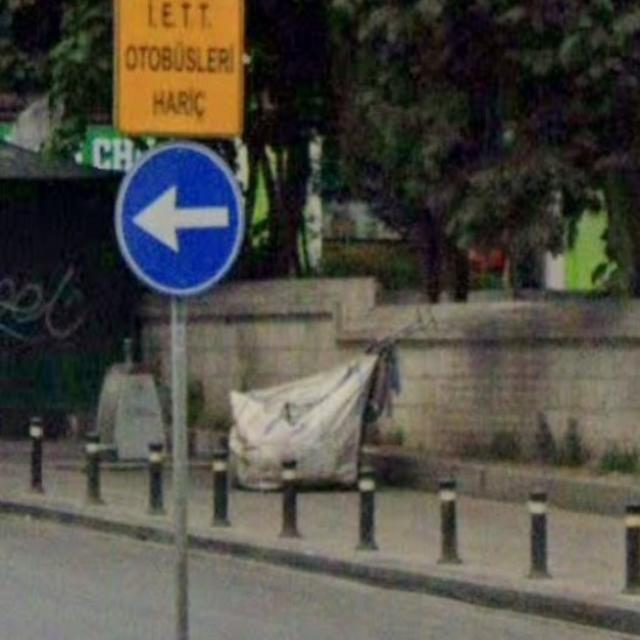Turn Left: (109, 132, 241, 297)
